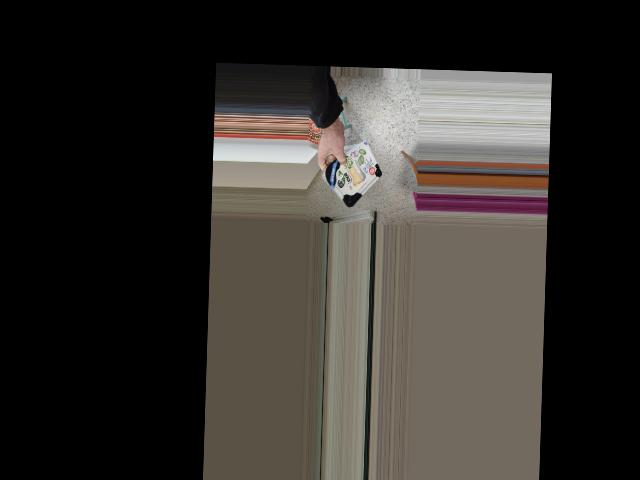cheese: (307, 148, 386, 199)
